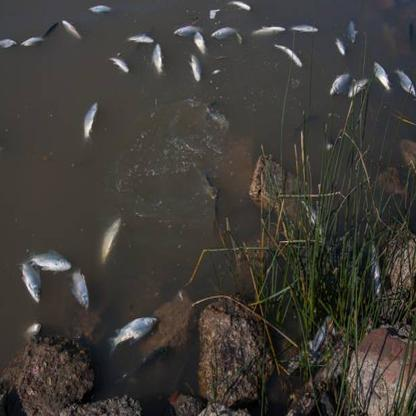deceased fish: (107, 316, 161, 347), (20, 245, 74, 273), (13, 257, 42, 305), (62, 266, 89, 310), (271, 43, 305, 67), (79, 101, 98, 138), (329, 70, 350, 99), (374, 56, 391, 90), (396, 67, 416, 94), (188, 55, 204, 82), (61, 19, 81, 40), (253, 25, 287, 35), (109, 57, 130, 73), (192, 34, 208, 55), (172, 25, 202, 36), (349, 20, 360, 43), (290, 24, 318, 32)
